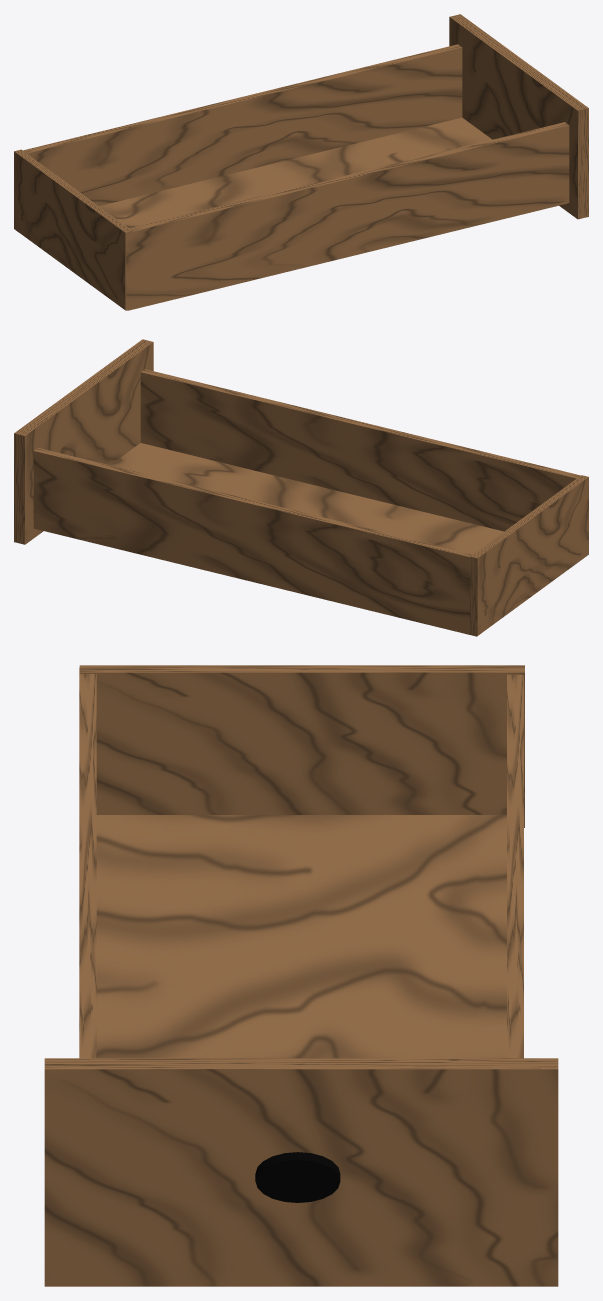
File: cajonIzq.obj
The picture shows the model from 3 angles, top to bottom: view 1: azimuth 30°, elevation 25°; view 2: azimuth 150°, elevation 25°; view 3: azimuth 270°, elevation 25°; orthographic projection. The views are drawn at different scales.
Visible parts, largest first — view 1: polySurface4; view 2: polySurface4; view 3: polySurface4.
Part boxes in pixels (x1=…): polySurface4: x1=14, y1=14, x2=588, y2=310; polySurface4: x1=14, y1=339, x2=588, y2=636; polySurface4: x1=44, y1=665, x2=558, y2=1286.
Size of the model in its own units: 3.12 by 0.7 by 1.5.
2 materials, 1 textured.
